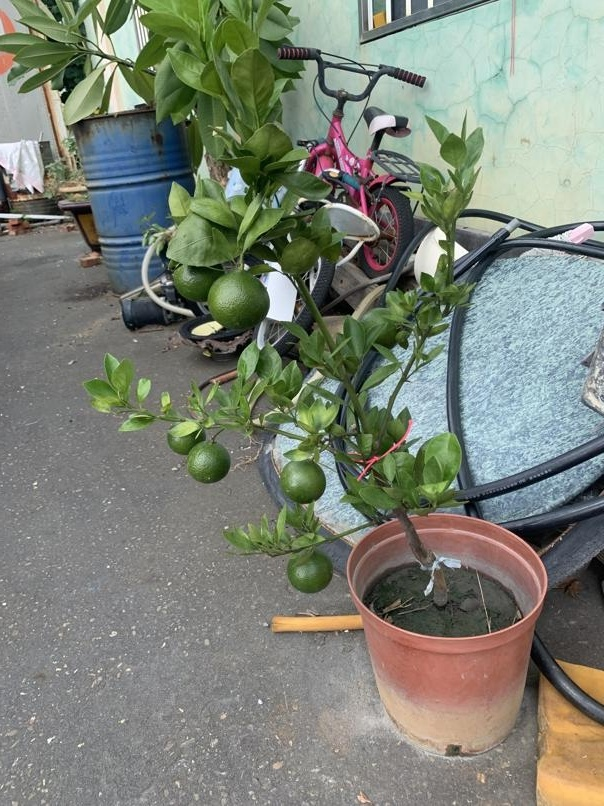Tangerine: (208, 270, 271, 333), (182, 435, 233, 484), (287, 549, 334, 596), (280, 456, 326, 504)
